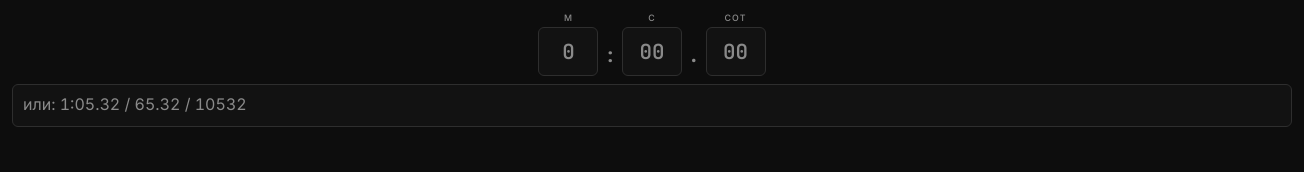
Scenario: TimeInput › keeps digits only, two at most, in a field
In the field labelled "с": {"x": 652, "y": 52} [622,27,682,76], type "2a5"
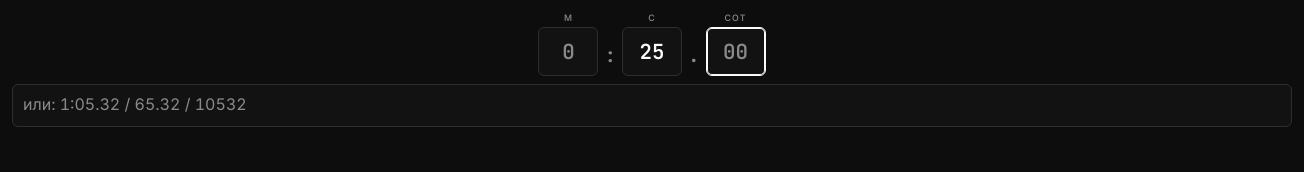
Expected: the field labelled "с" holds "25", [622,27,682,76]
